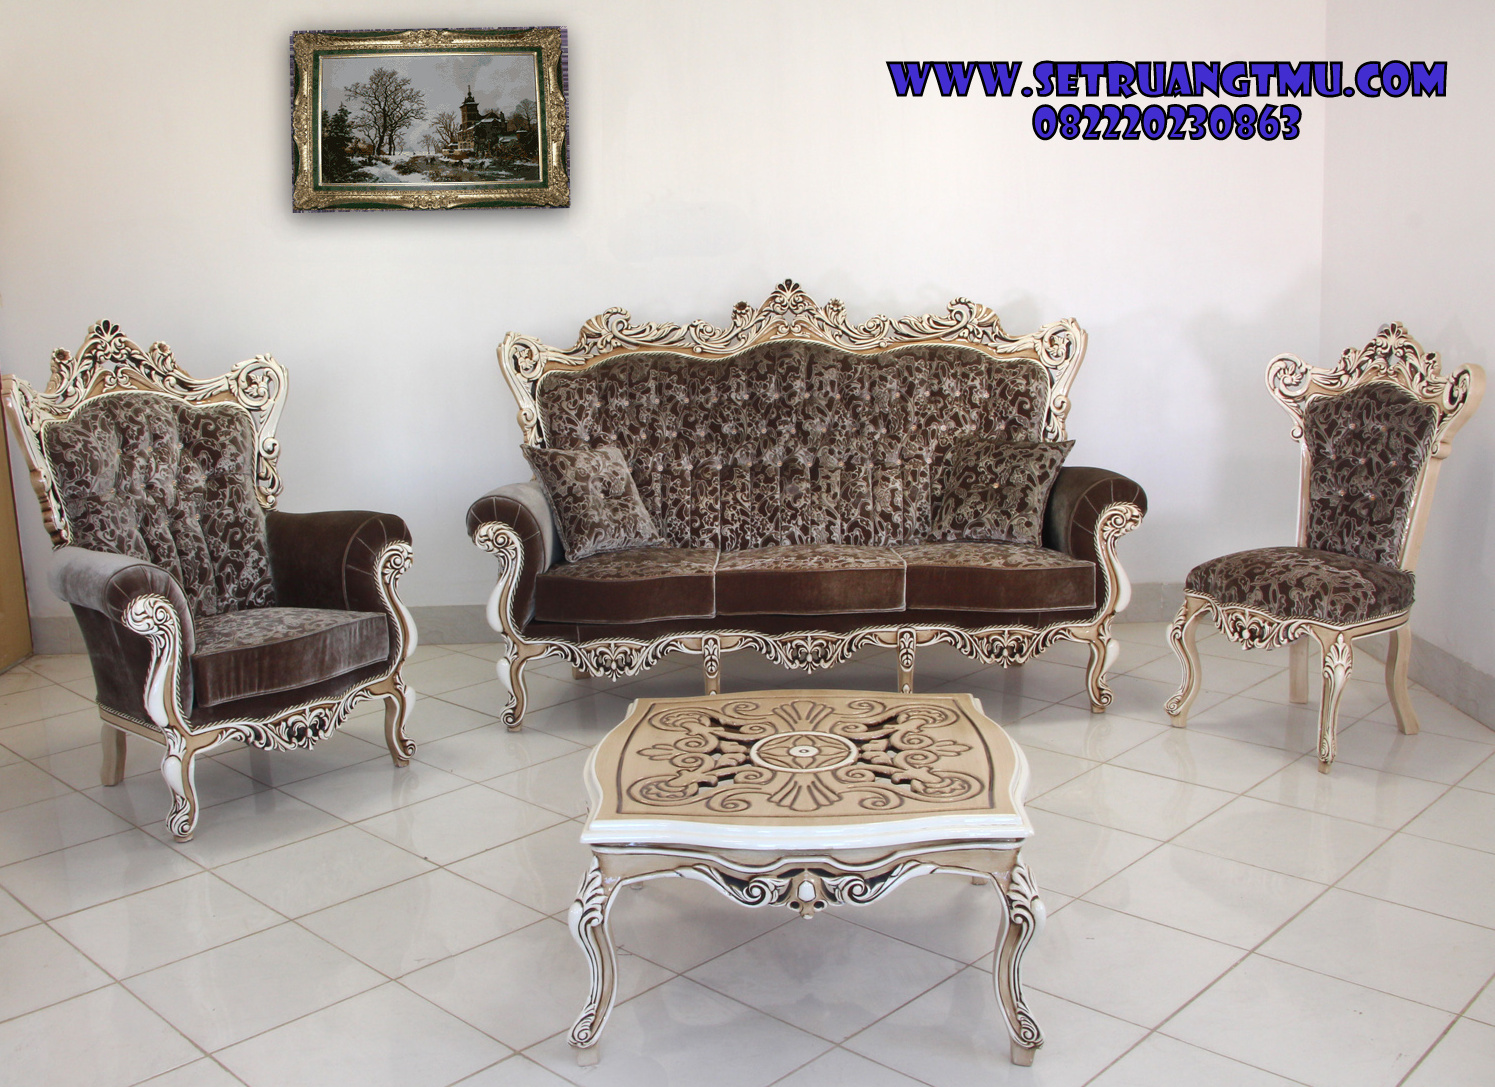Carving Chair: (489, 294, 1149, 725), (28, 341, 424, 825), (1176, 339, 1485, 801)
Carving Table: (568, 686, 1052, 1054)
